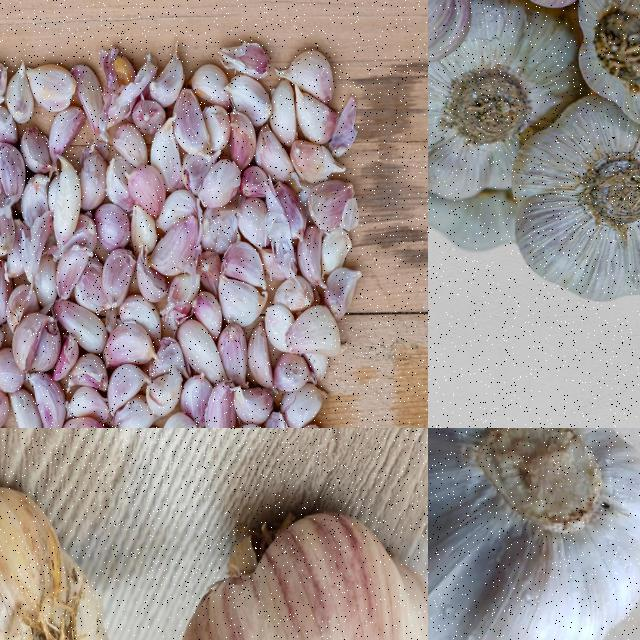garlic: (0, 41, 358, 427), (428, 428, 639, 639), (428, 0, 605, 202), (170, 510, 427, 639), (510, 100, 639, 303), (0, 481, 135, 639)
